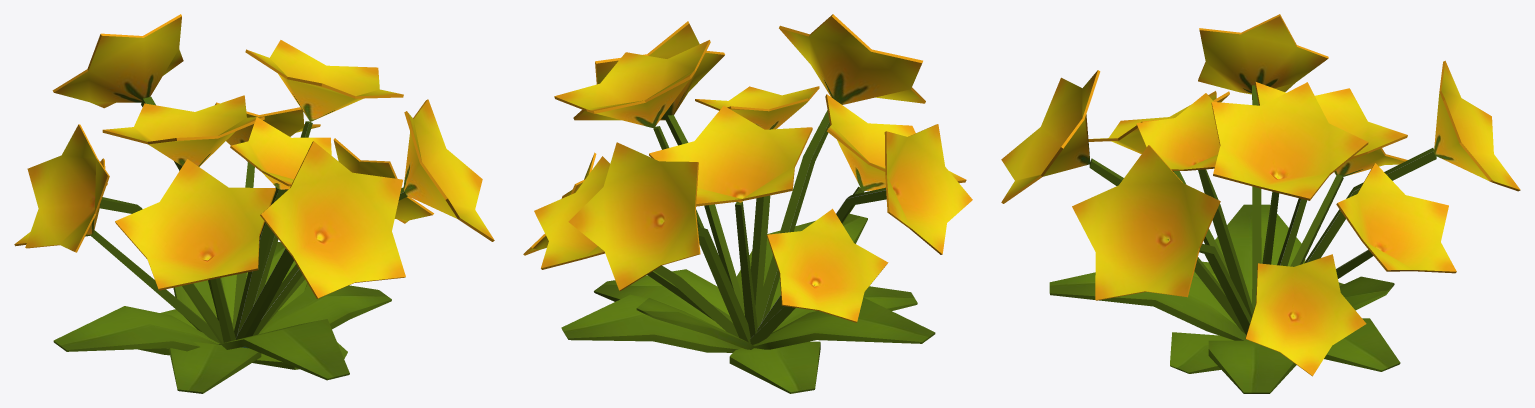
File: flower_a.glb
The picture shows the model from 3 angles, left to right: view 1: azimuth 30°, elevation 25°; view 2: azimuth 150°, elevation 25°; view 3: azimuth 270°, elevation 25°; orthographic projection.
Parts seen in each view (by area): view 1: flovers9:pDisc3, flovers9:pDisc5, flovers9:pDisc4, flovers9:pasted__pDisc6, flovers9:pasted__pDisc3, flovers9:pDisc2, flovers9:pasted__pDisc2, flovers9:sweep16, flovers9:sweep14, flovers9:pasted__pDisc7, flovers9:sweep12, flovers9:sweep15 (+12 smaller); view 2: flovers9:pasted__pDisc6, flovers9:pDisc2, flovers9:pDisc6, flovers9:pDisc4, flovers9:pDisc3, flovers9:pasted__pDisc2, flovers9:sweep16, flovers9:sweep10, flovers9:pDisc5, flovers9:pasted__pDisc4, flovers9:sweep11, flovers9:pasted__pDisc7 (+15 smaller); view 3: flovers9:pasted__pDisc3, flovers9:pasted__pDisc2, flovers9:pDisc7, flovers9:pasted__pDisc4, flovers9:pDisc4, flovers9:pDisc3, flovers9:pasted__pDisc6, flovers9:sweep14, flovers9:pasted__pDisc7, flovers9:sweep12, flovers9:pDisc2, flovers9:sweep16 (+13 smaller).
Part boxes in pixels (left/top/right/bottom): flovers9:pDisc3: left=260, top=141, right=405, bottom=298; flovers9:pDisc5: left=115, top=159, right=275, bottom=290; flovers9:pDisc4: left=25, top=124, right=109, bottom=252; flovers9:pasted__pDisc6: left=52, top=14, right=183, bottom=108; flovers9:pasted__pDisc3: left=403, top=99, right=494, bottom=241; flovers9:pDisc2: left=102, top=95, right=264, bottom=166; flovers9:pasted__pDisc2: left=245, top=40, right=403, bottom=121; flovers9:sweep16: left=53, top=306, right=219, bottom=351; flovers9:sweep14: left=217, top=319, right=349, bottom=380; flovers9:pasted__pDisc7: left=230, top=117, right=331, bottom=189; flovers9:sweep12: left=258, top=284, right=391, bottom=334; flovers9:sweep15: left=168, top=341, right=261, bottom=393; flovers9:pasted__pDisc6: left=568, top=142, right=700, bottom=290; flovers9:pDisc2: left=649, top=105, right=812, bottom=206; flovers9:pDisc6: left=766, top=208, right=888, bottom=322; flovers9:pDisc4: left=884, top=124, right=972, bottom=254; flovers9:pDisc3: left=779, top=14, right=925, bottom=104; flovers9:pasted__pDisc2: left=554, top=40, right=710, bottom=128; flovers9:sweep16: left=753, top=297, right=935, bottom=349; flovers9:sweep10: left=561, top=294, right=741, bottom=352; flovers9:pDisc5: left=825, top=94, right=966, bottom=190; flovers9:pasted__pDisc4: left=534, top=156, right=609, bottom=269; flovers9:sweep11: left=729, top=341, right=820, bottom=393; flovers9:pasted__pDisc7: left=695, top=86, right=819, bottom=129; flovers9:pasted__pDisc3: left=1072, top=145, right=1220, bottom=300; flovers9:pasted__pDisc2: left=1211, top=82, right=1368, bottom=200; flovers9:pDisc7: left=1245, top=254, right=1366, bottom=376; flovers9:pasted__pDisc4: left=1336, top=163, right=1456, bottom=273; flovers9:pDisc4: left=1198, top=14, right=1328, bottom=94; flovers9:pDisc3: left=1001, top=70, right=1100, bottom=203; flovers9:pasted__pDisc6: left=1434, top=60, right=1520, bottom=191; flovers9:sweep14: left=1049, top=272, right=1248, bottom=340; flovers9:pasted__pDisc7: left=1136, top=93, right=1219, bottom=170; flovers9:sweep12: left=1208, top=340, right=1296, bottom=393; flovers9:pDisc2: left=1255, top=82, right=1407, bottom=159; flovers9:sweep16: left=1208, top=204, right=1305, bottom=303.
Size of the model in its own units: 0.1859 by 0.1211 by 0.203.
3 materials, 3 textured.
